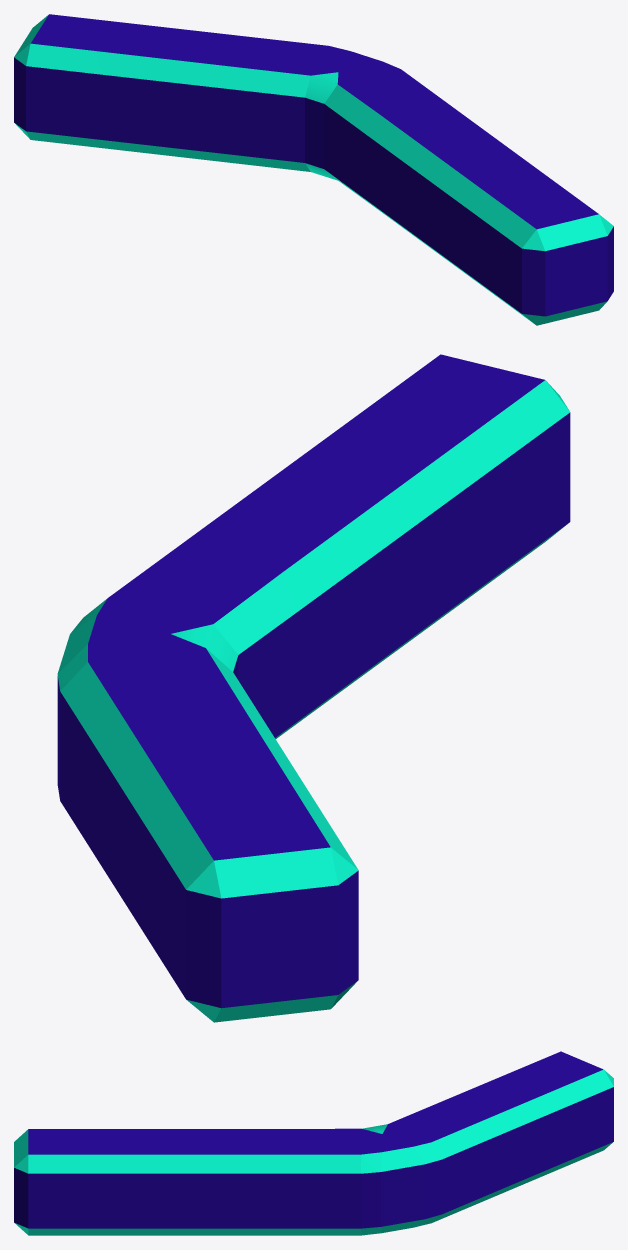
The model's file is LaneLeft.obj.
The picture shows the model from 3 angles, top to bottom: view 1: azimuth 30°, elevation 25°; view 2: azimuth 150°, elevation 25°; view 3: azimuth 270°, elevation 25°; orthographic projection. The views are drawn at different scales.
Visible parts, largest first — view 1: pCube3; view 2: pCube3; view 3: pCube3.
Part boxes in pixels (x1,y1,x2,y2): pCube3: [14, 14, 613, 325]; pCube3: [57, 354, 570, 1022]; pCube3: [14, 1051, 613, 1235].
Bounding box in the file's own units: 1.5 × 0.5 × 3.36.
Materials: 1 (1 with a texture image).
